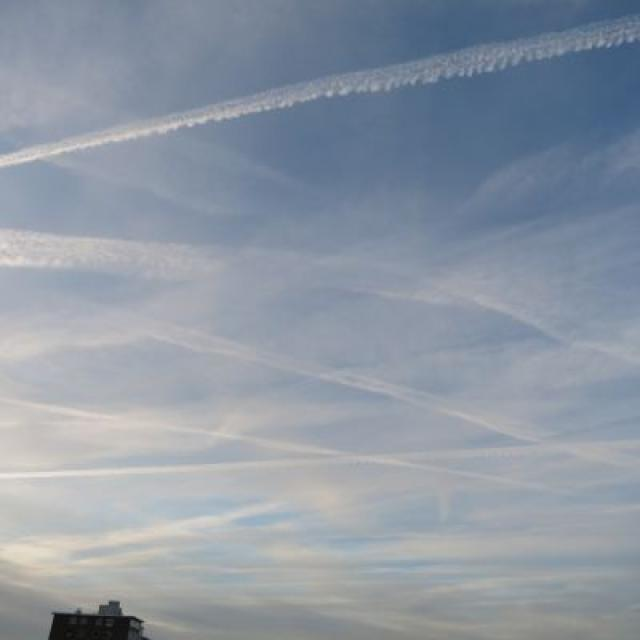Ct: (1, 45, 640, 556)
